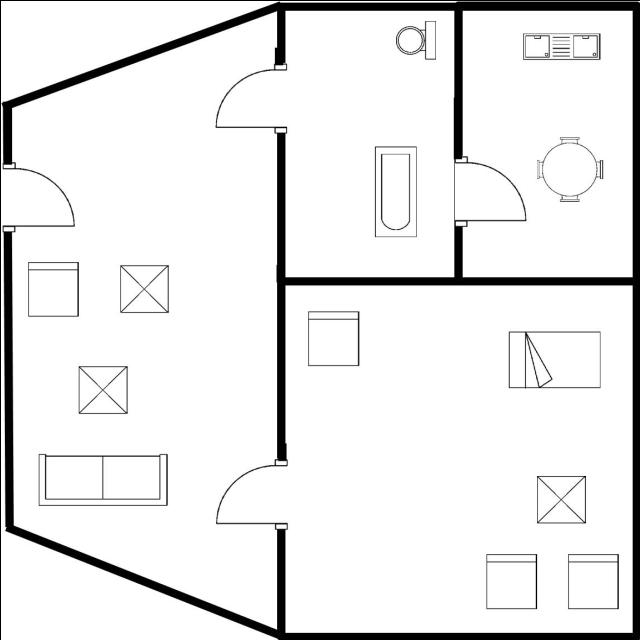bed: (502, 324, 606, 394)
coffee_table: (532, 469, 592, 529), (115, 260, 176, 318), (72, 360, 132, 418)
large_sink: (388, 18, 442, 66)
large_sofa: (34, 448, 175, 510)
round_table: (530, 132, 610, 208)
small_sofa: (478, 548, 544, 614), (20, 257, 86, 321), (304, 306, 367, 370), (563, 550, 623, 614)
tub: (366, 138, 422, 240)
twin_sink: (516, 26, 606, 66)
